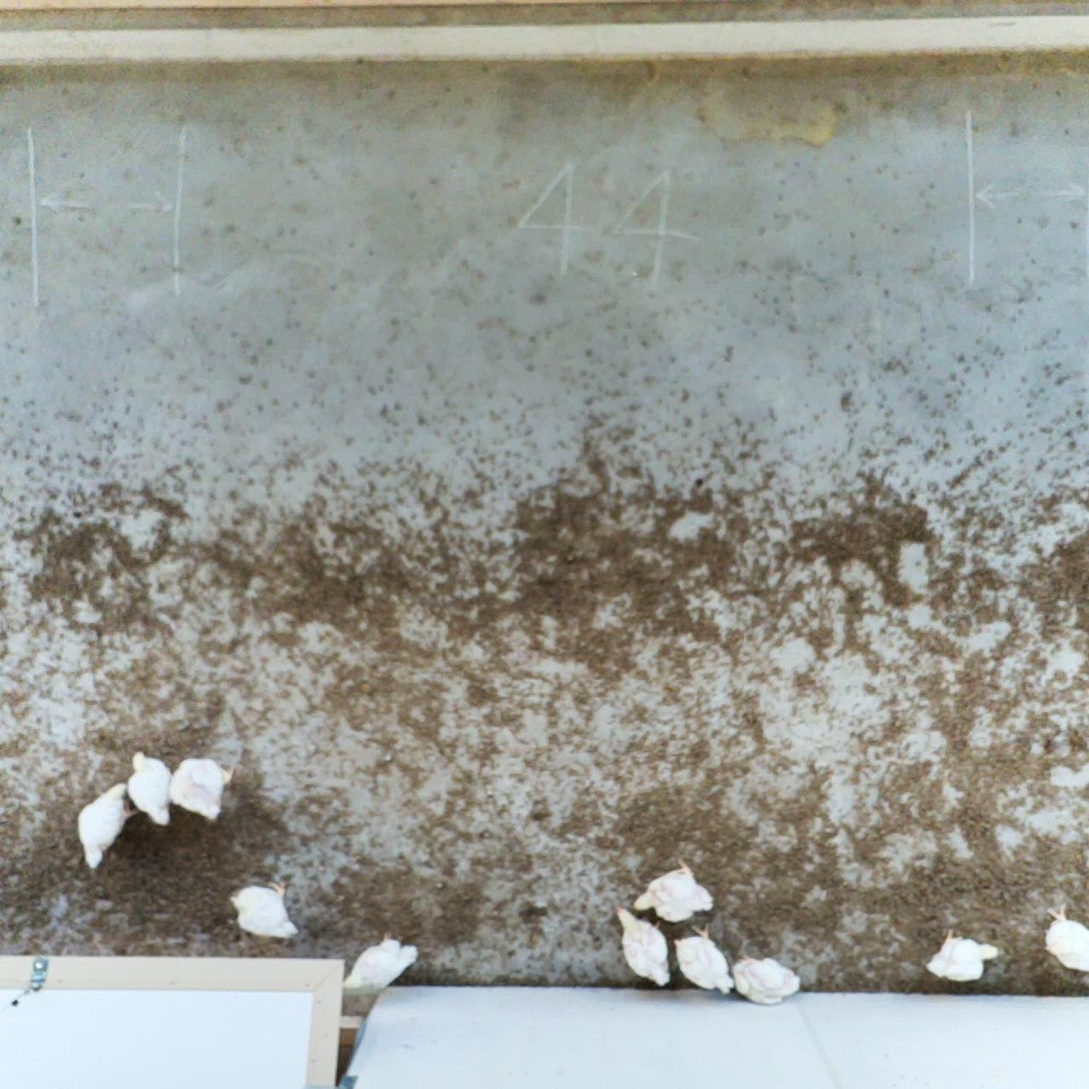chicken: (73, 778, 141, 870), (338, 930, 428, 997), (632, 856, 717, 926), (612, 896, 675, 988), (165, 754, 240, 829), (664, 922, 738, 997), (226, 876, 304, 943), (726, 942, 802, 1009), (926, 921, 1003, 986), (128, 746, 177, 830), (1041, 899, 1089, 981)
